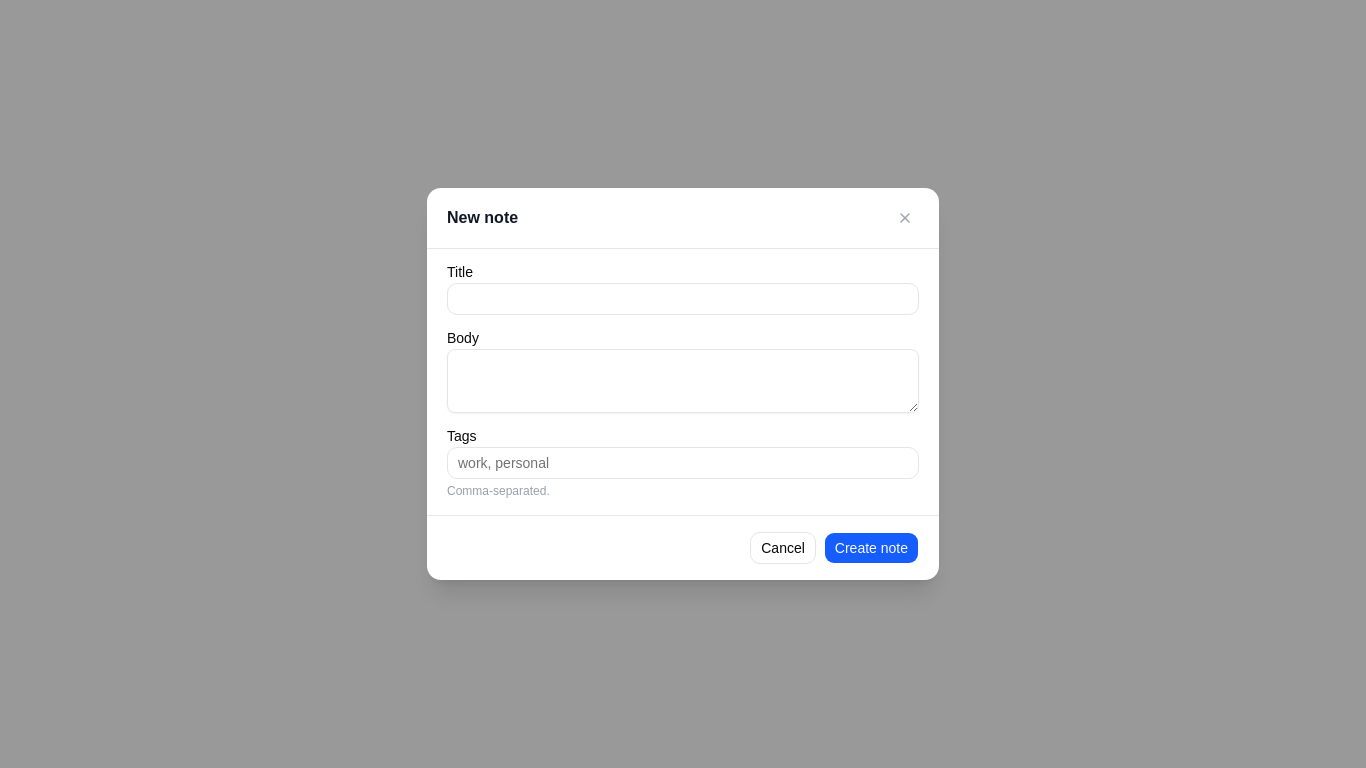
Test: NoteFormModal › create mode › shows the returned error and stays open on failure
Type "New note" into the field labelled "Title". click: (683,299)
box: [447,283,919,315]
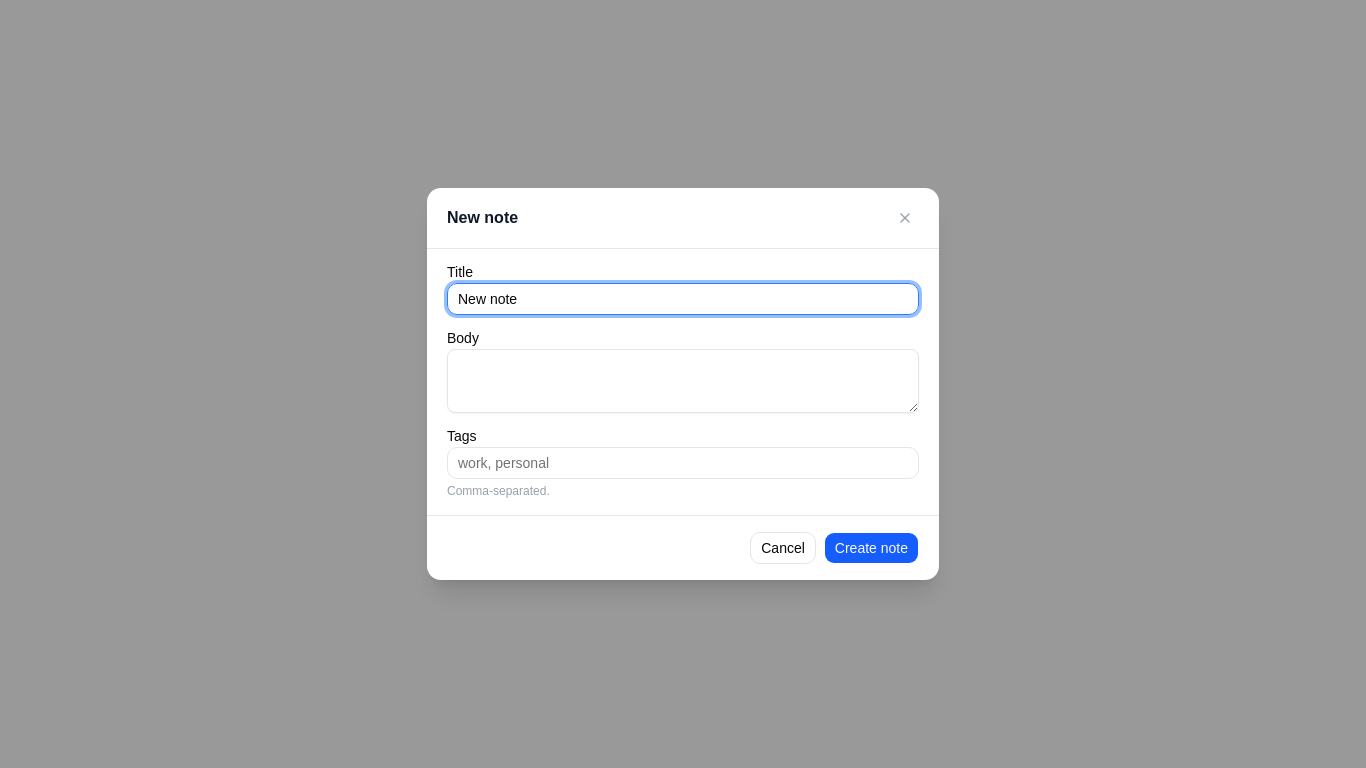
Click the button "Create note". click: (871,548)
box: [824,532,919,564]
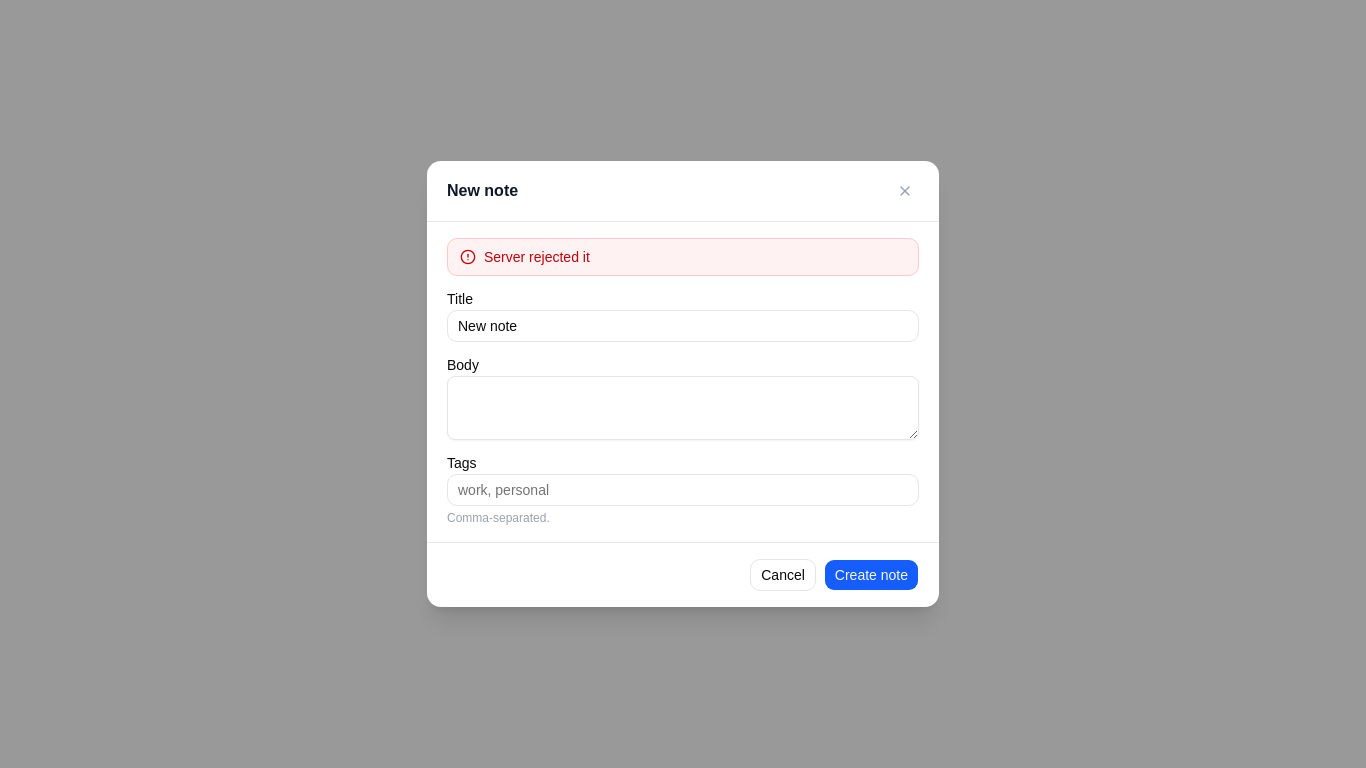
Expected: the text "Server rejected it" is shown, [484,247,590,267]
